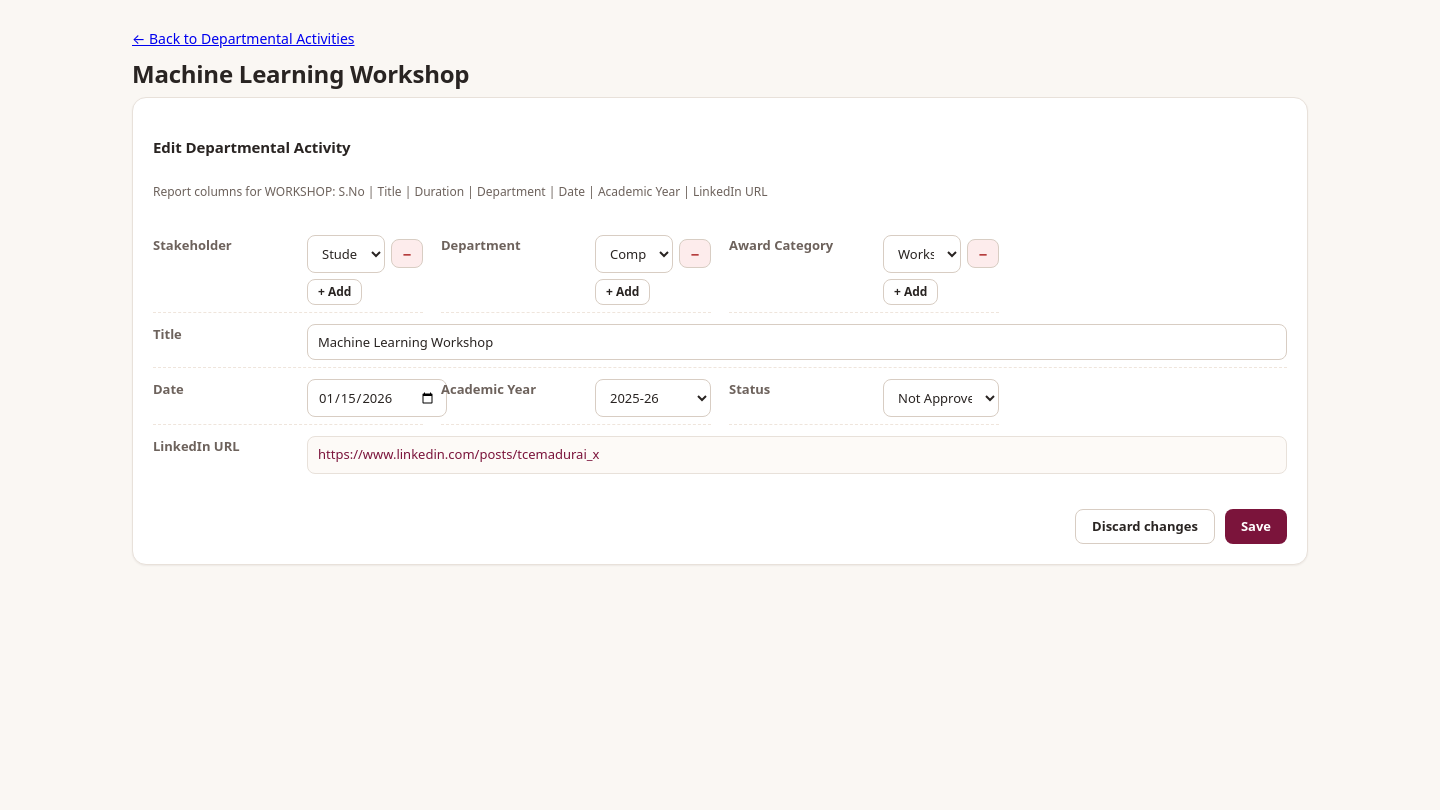
Test case: LinkedIn Admin Departmental Detail › patches only the changed Title field via the same canonical PATCH endpoint
Replace the text in the field labelled "Title" with "ML Workshop for CSE — Updated" at (797, 342), box 307,324 -> 1287,360
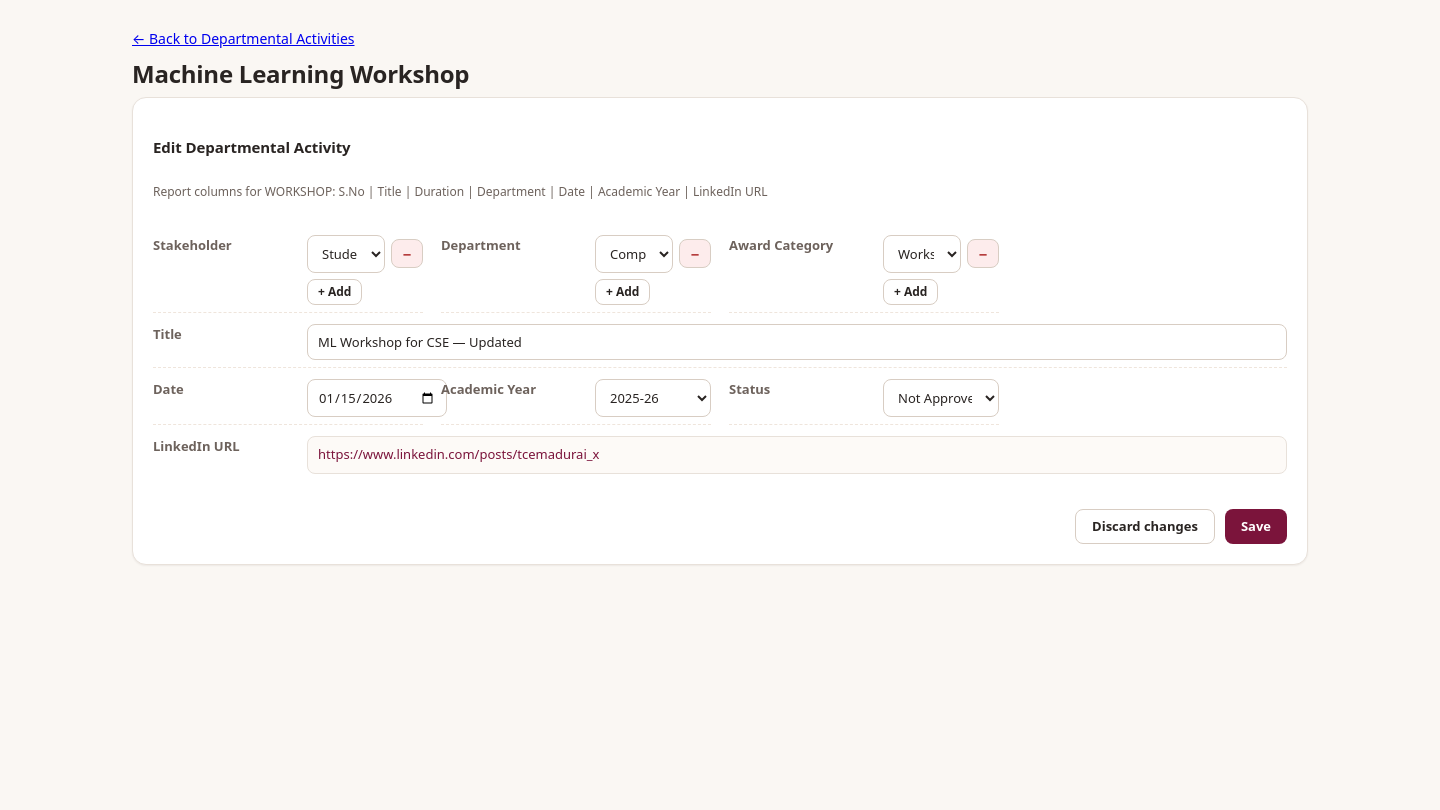
Click the button "Save" at (1256, 526), box 1225,509 -> 1287,544
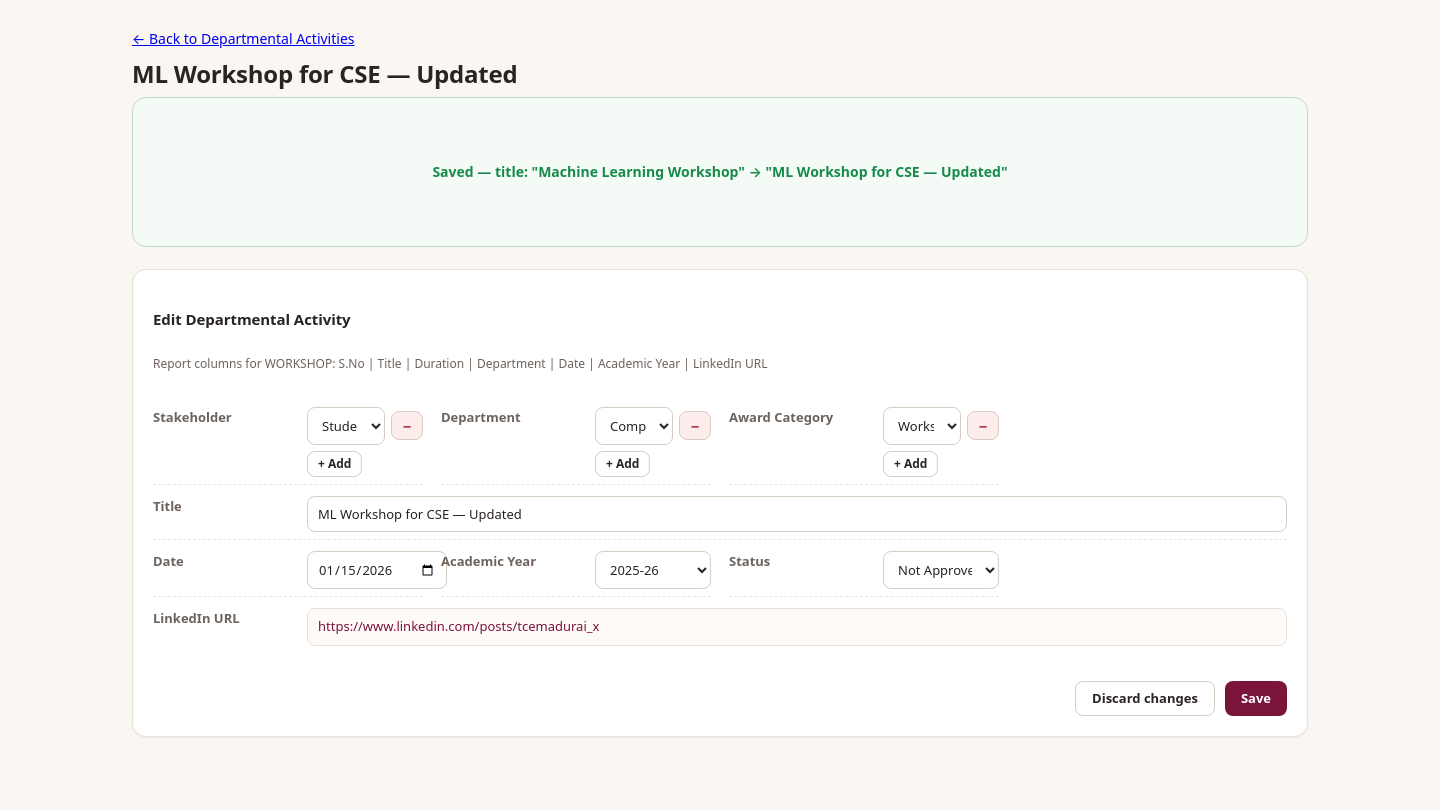
Check: the text "Saved — title: \"Machine Learning Workshop\" → \"ML Workshop for CSE — Updated\"" is shown, box 132,97 -> 1308,247
